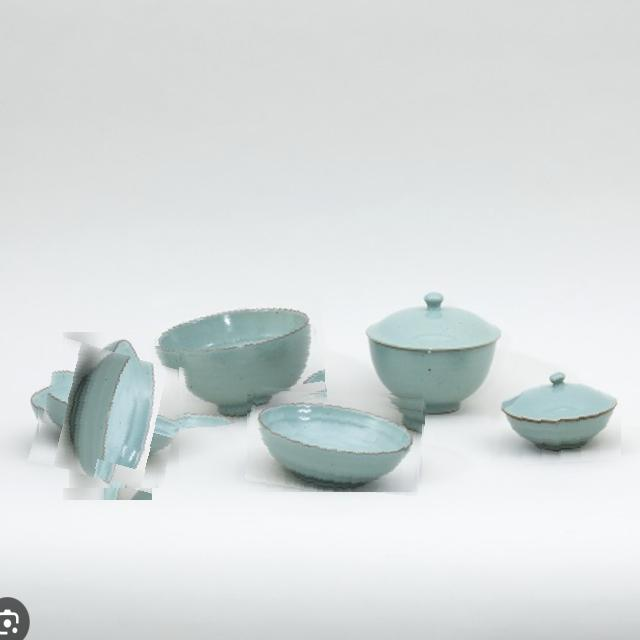recyclable: (147, 287, 325, 427), (35, 344, 179, 488), (247, 389, 424, 492), (490, 363, 621, 466)
